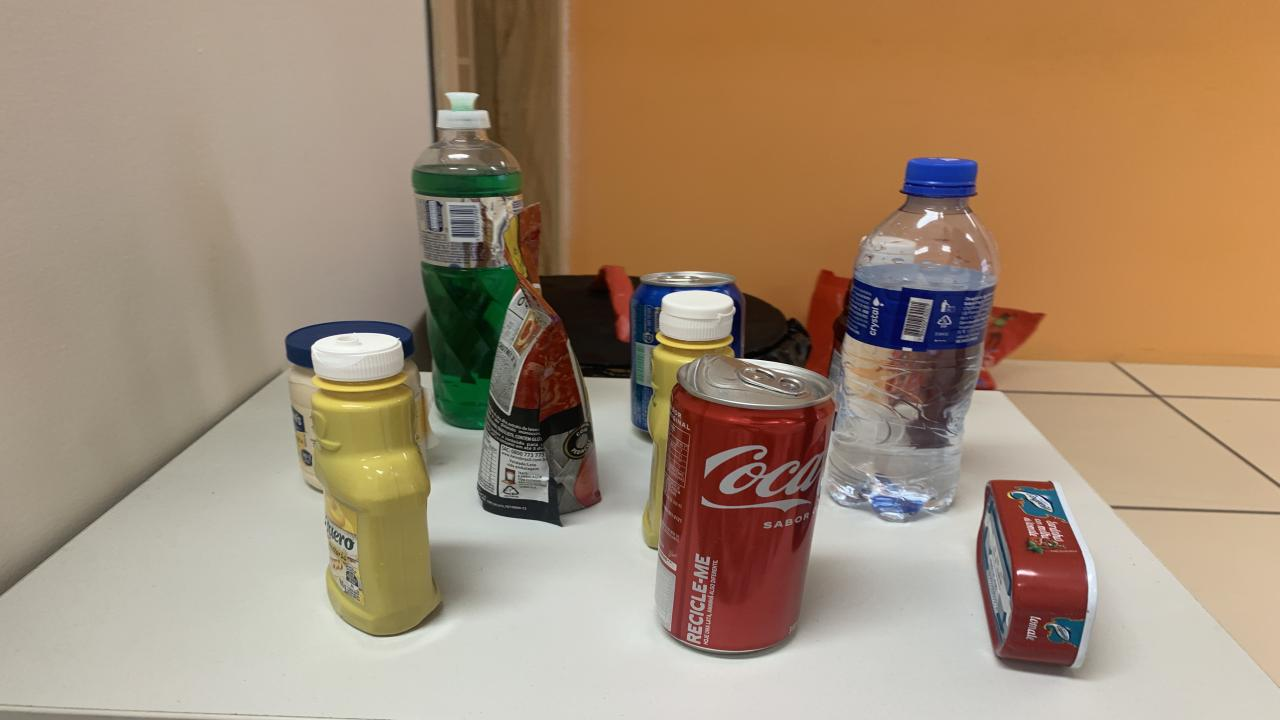Coke-Drinks: (655, 351, 835, 652)
Detergent-Cleanup_Items: (412, 92, 522, 429)
Mayonnaise-Pantry_Items: (285, 321, 415, 491), (405, 362, 428, 450)
Mustard-Pantry_Items: (310, 332, 440, 636), (642, 291, 735, 548)
Tomato_Sauce-Pantry_Items: (478, 204, 600, 525)
Tonic-Drinks: (630, 272, 745, 431)
Tuna_Can-Pantry_Items: (978, 480, 1098, 668)
Water_Bottle-Drinks: (828, 159, 1000, 521)
